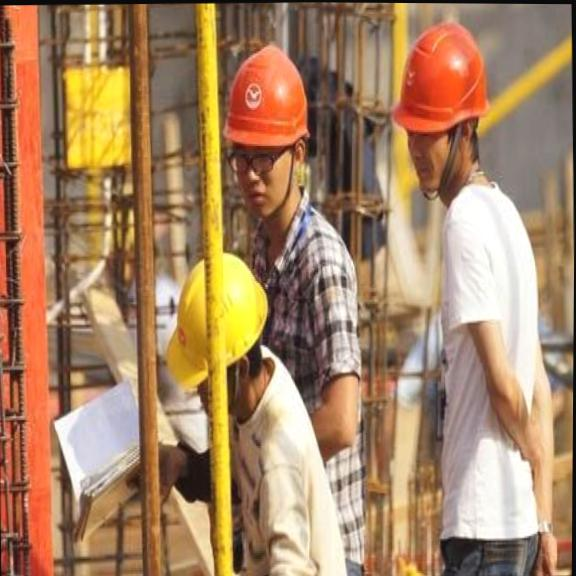no_safety_vest: (427, 170, 549, 565), (201, 357, 330, 576)
